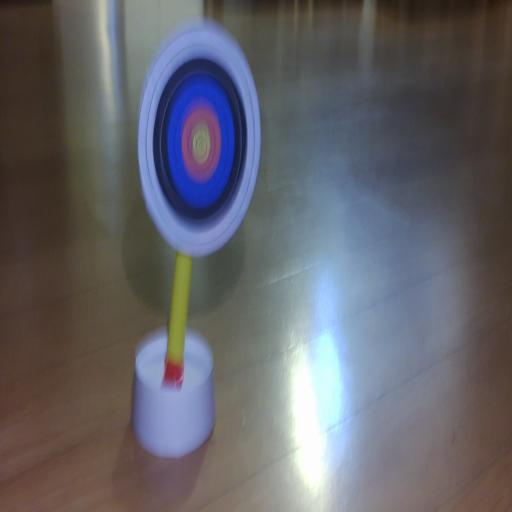target: (138, 21, 260, 256)
